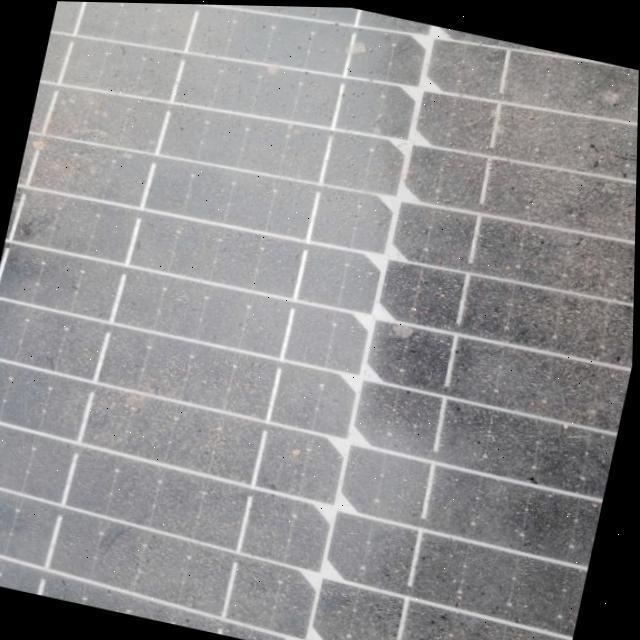Surface Contaminant: (0, 1, 639, 640)
